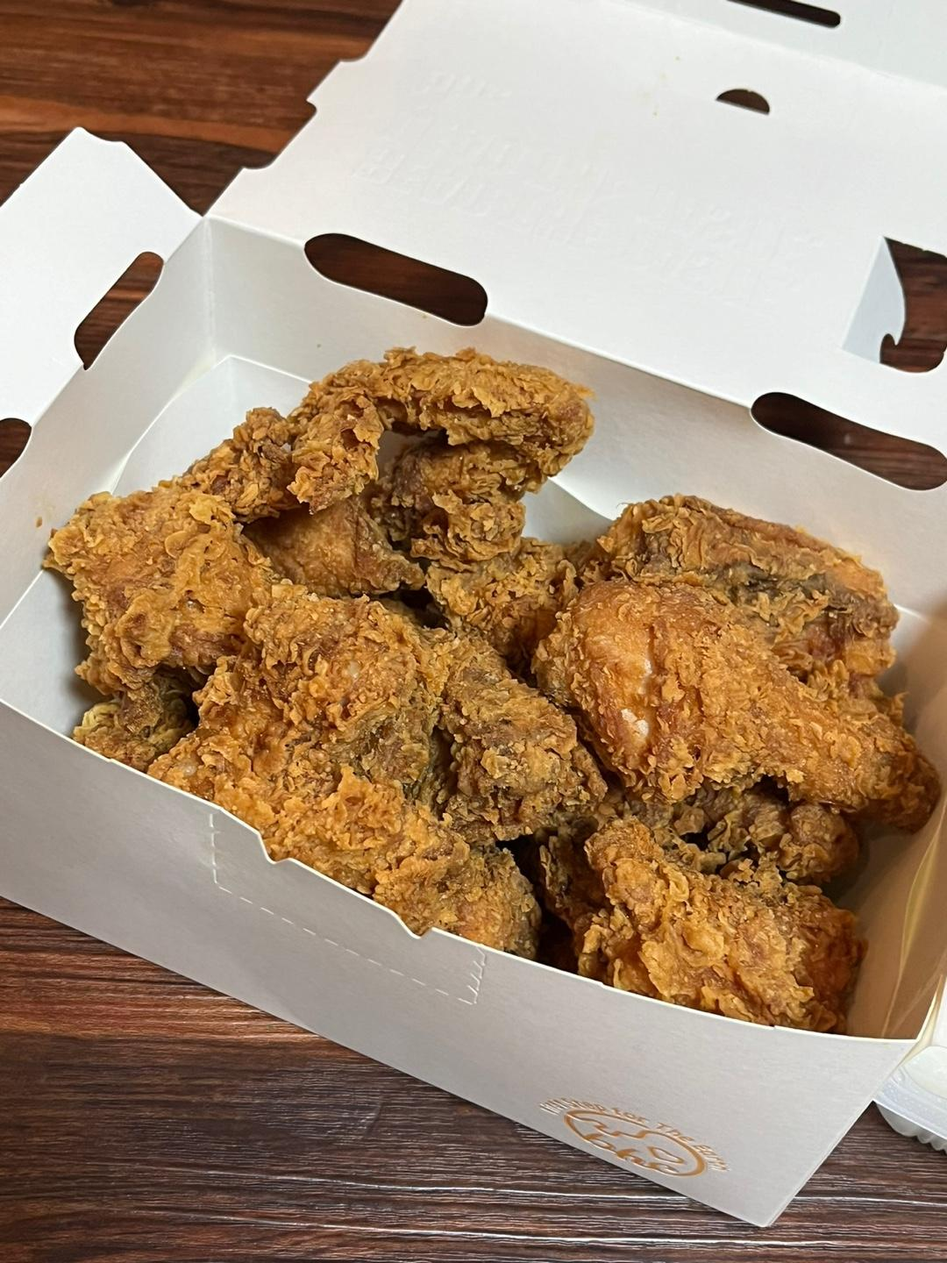Lunch Box: (0, 0, 946, 1225)
